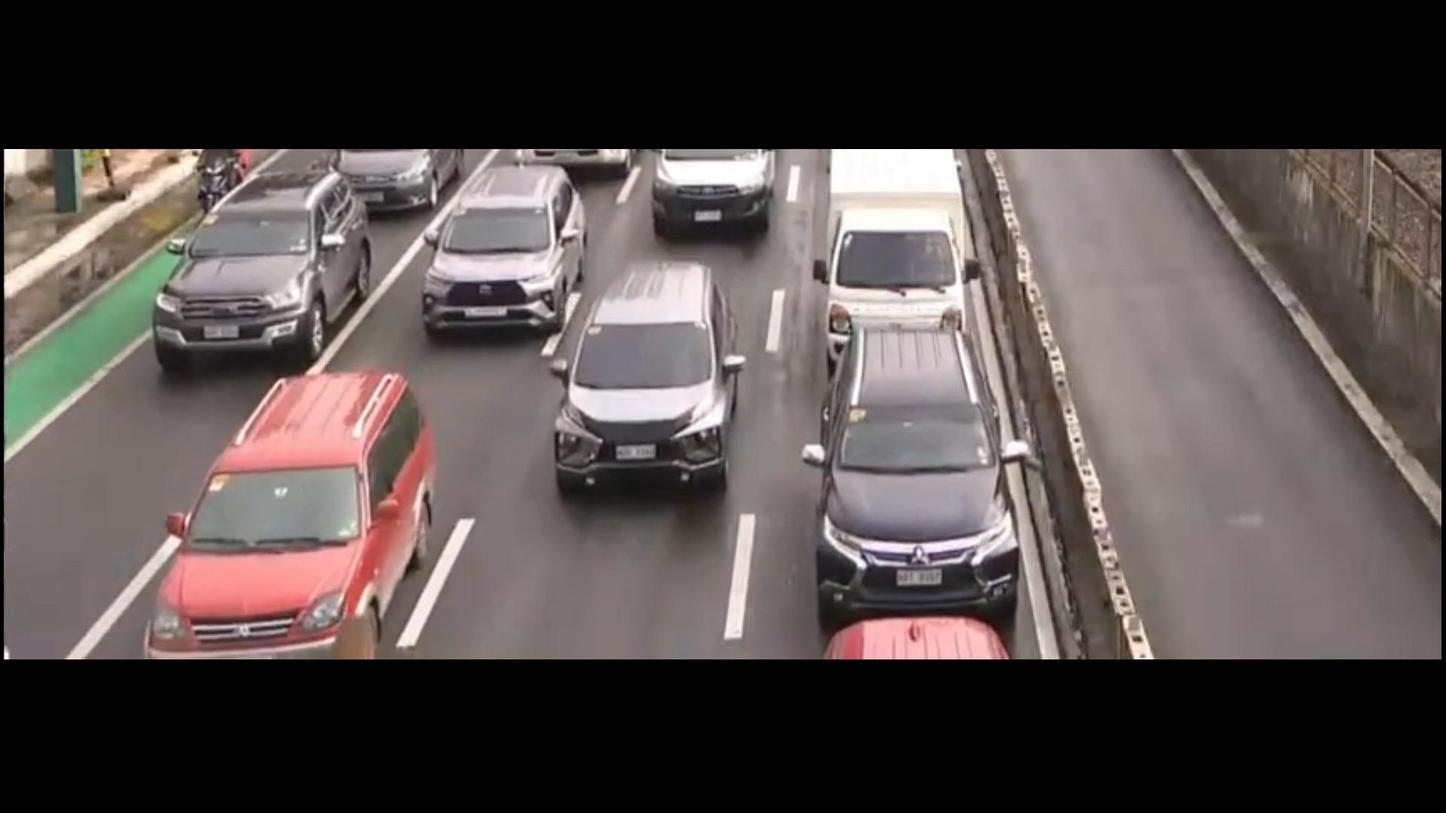Motorcycle: (189, 148, 244, 221)
SUV: (155, 337, 479, 663), (811, 317, 1021, 615), (540, 254, 757, 517), (140, 162, 383, 389), (397, 149, 593, 355)
Truck: (790, 143, 991, 372)
